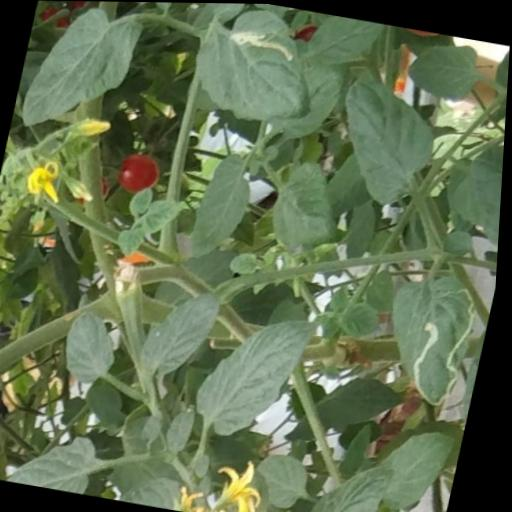Healthy: (185, 300, 325, 449), (15, 0, 148, 144), (322, 71, 451, 213), (133, 276, 231, 388), (185, 144, 261, 268), (373, 418, 463, 512), (398, 31, 490, 104), (59, 305, 129, 393), (253, 447, 317, 510)
Leaf_Miner: (172, 2, 334, 132), (370, 255, 492, 412)
